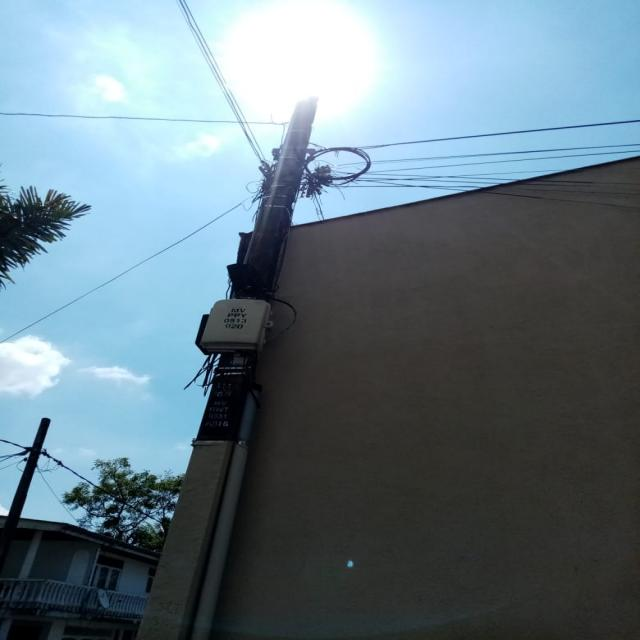light_pole: (132, 91, 330, 640)
